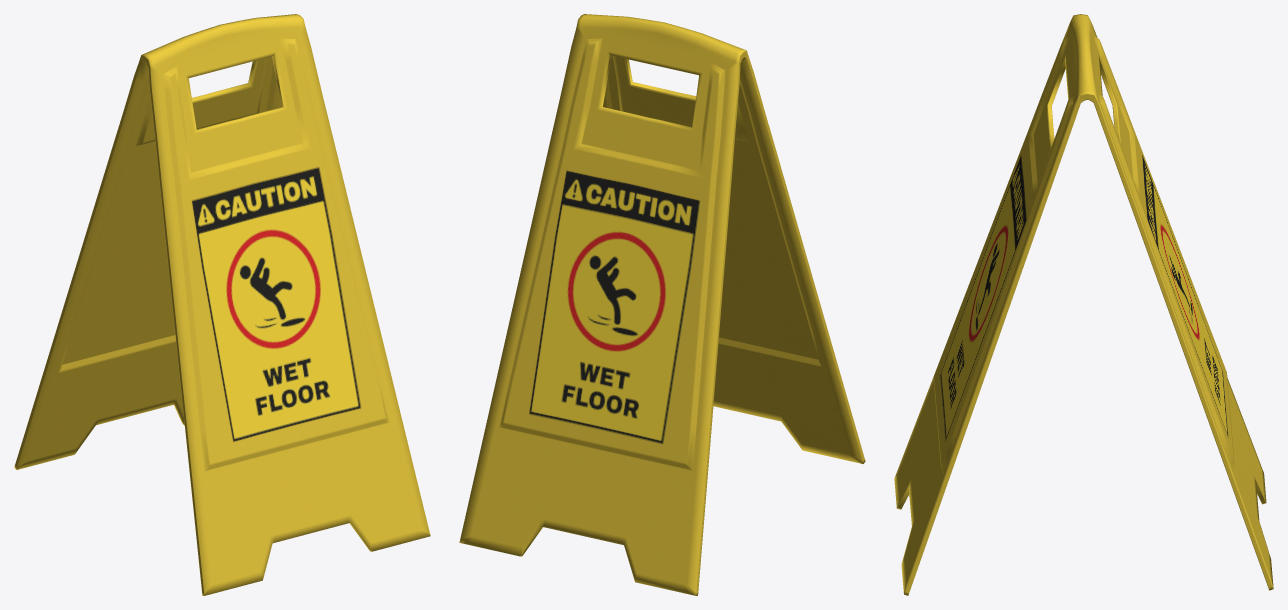
Rendered from sign.glb.
3 views of the same model, side by side, from view 1: azimuth 30°, elevation 25°; view 2: azimuth 150°, elevation 25°; view 3: azimuth 270°, elevation 25° (orthographic). The views are drawn at different scales.
Parts seen in each view (by area): view 1: Floor_Sign; view 2: Floor_Sign; view 3: Floor_Sign.
Part boxes in pixels (x1,y1,x2,y2): Floor_Sign: (14, 14, 430, 595); Floor_Sign: (459, 14, 865, 595); Floor_Sign: (894, 14, 1273, 595).
Bounding box in the file's own units: 0.3158 × 0.5968 × 0.4168.
1 material, 1 textured.
